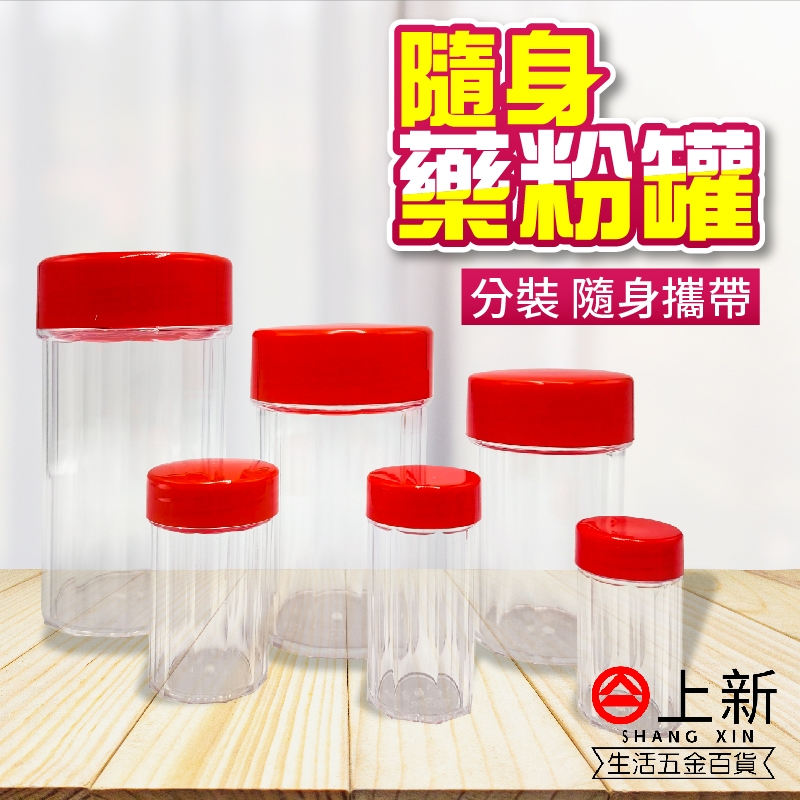medicinejar: (36, 252, 240, 657), (248, 324, 435, 673), (464, 371, 640, 692), (144, 460, 279, 705), (368, 467, 484, 729), (572, 519, 688, 732)
